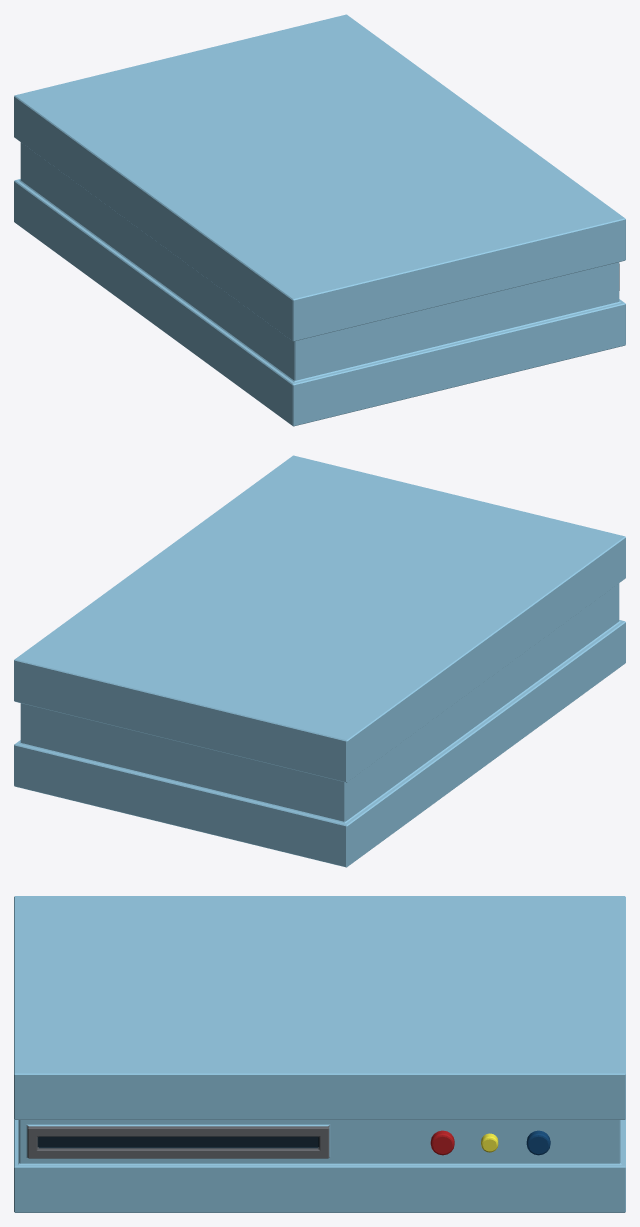
Rendered from Gaming_console.glb.
3 views of the same model, one above another, from view 1: azimuth 30°, elevation 25°; view 2: azimuth 150°, elevation 25°; view 3: azimuth 270°, elevation 25° (orthographic). The views are drawn at different scales.
Visible parts, largest first — view 1: Game_console; view 2: Game_console; view 3: Game_console.
Part boxes in pixels (<box>): Game_console: <box>14,14,625,426</box>; Game_console: <box>14,455,625,867</box>; Game_console: <box>14,896,625,1212</box>.
Bounding box in the file's own units: 0.3786 × 0.1367 × 0.544.
2 materials, 1 textured.
